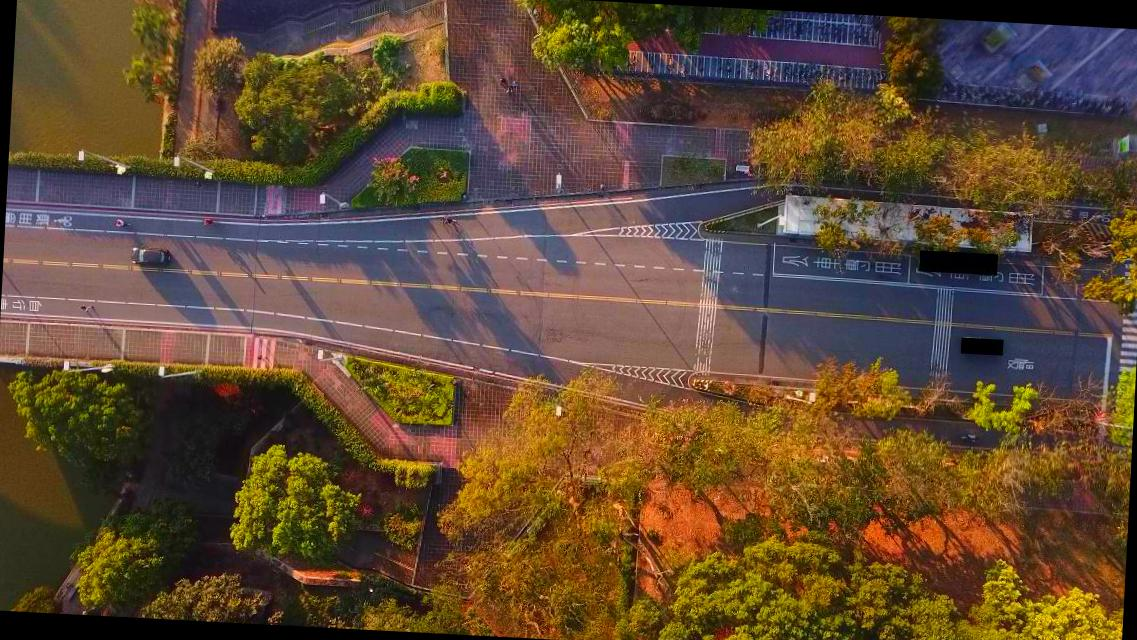vehicle: (129, 247, 171, 267)
